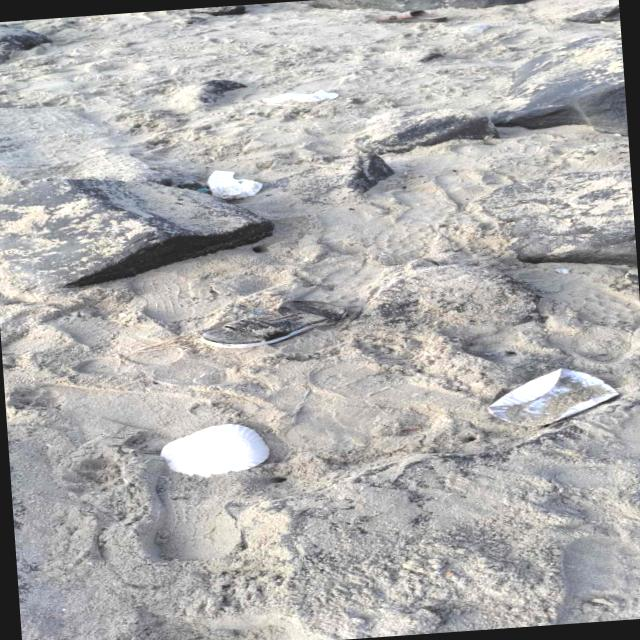dep: (202, 300, 348, 347)
giay: (489, 369, 620, 426), (160, 424, 269, 477), (208, 170, 263, 198)
